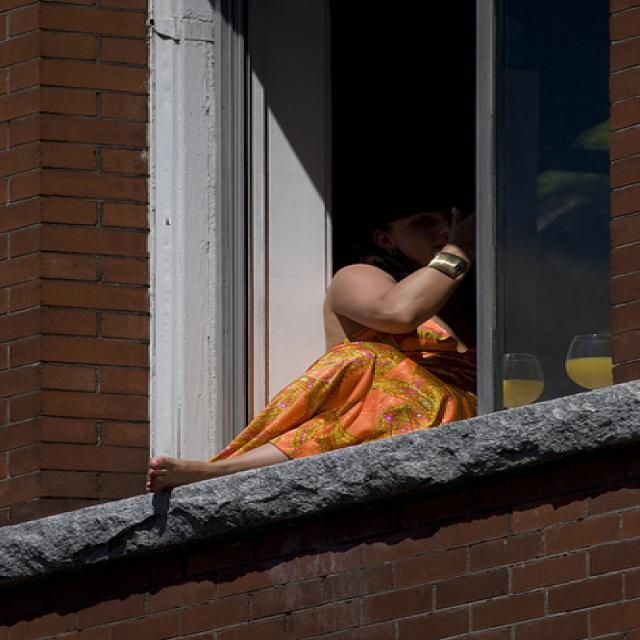person: (145, 203, 478, 495)
